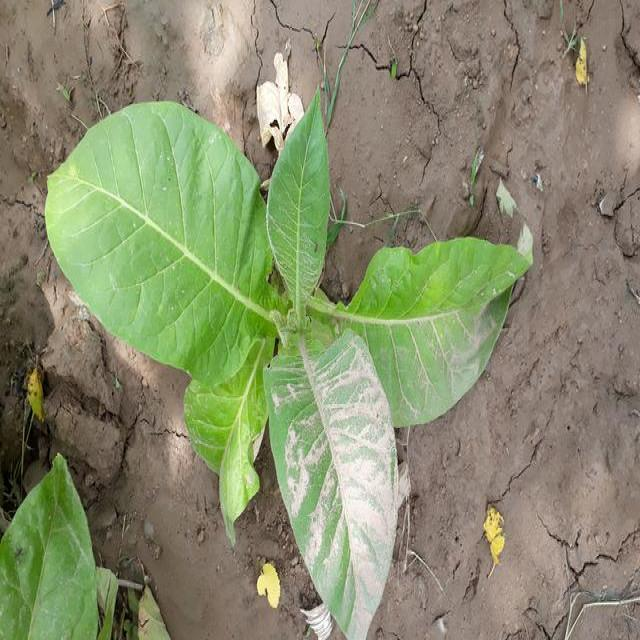crop: (72, 114, 514, 612), (1, 438, 136, 640)
